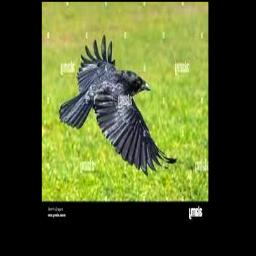Crow: (59, 36, 178, 176)
